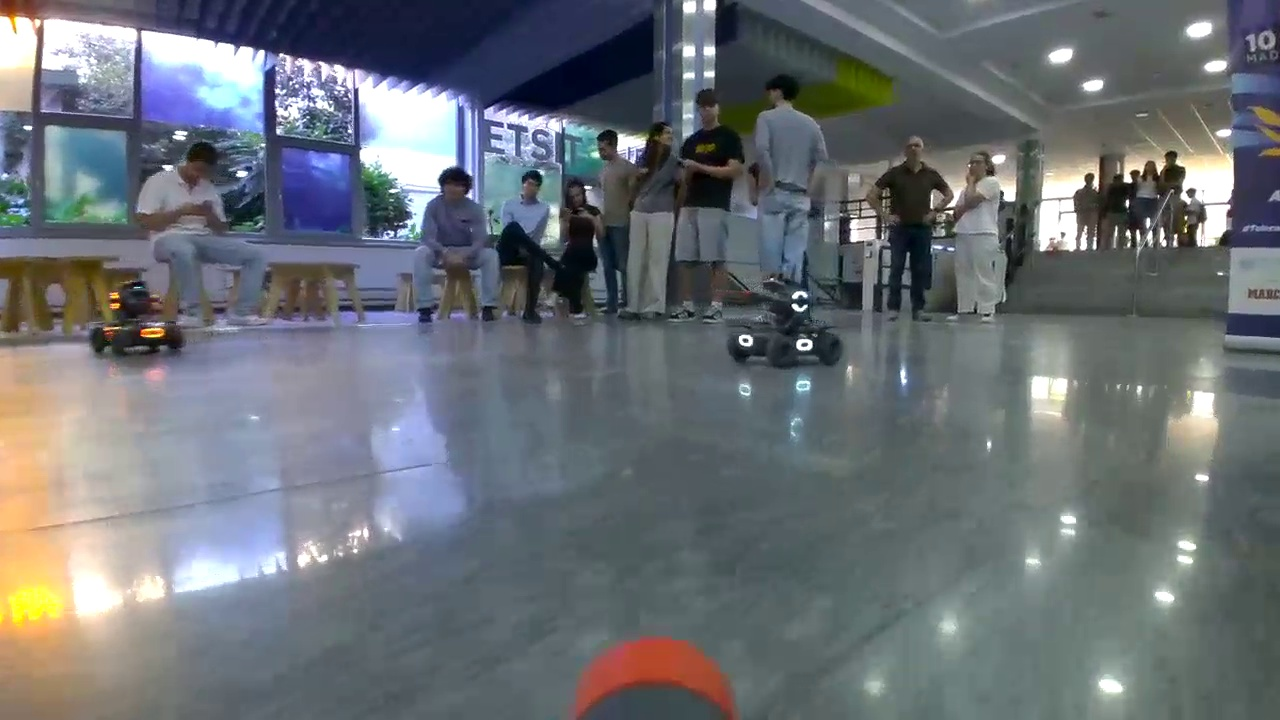robot: (726, 285, 842, 368), (88, 280, 187, 354)
